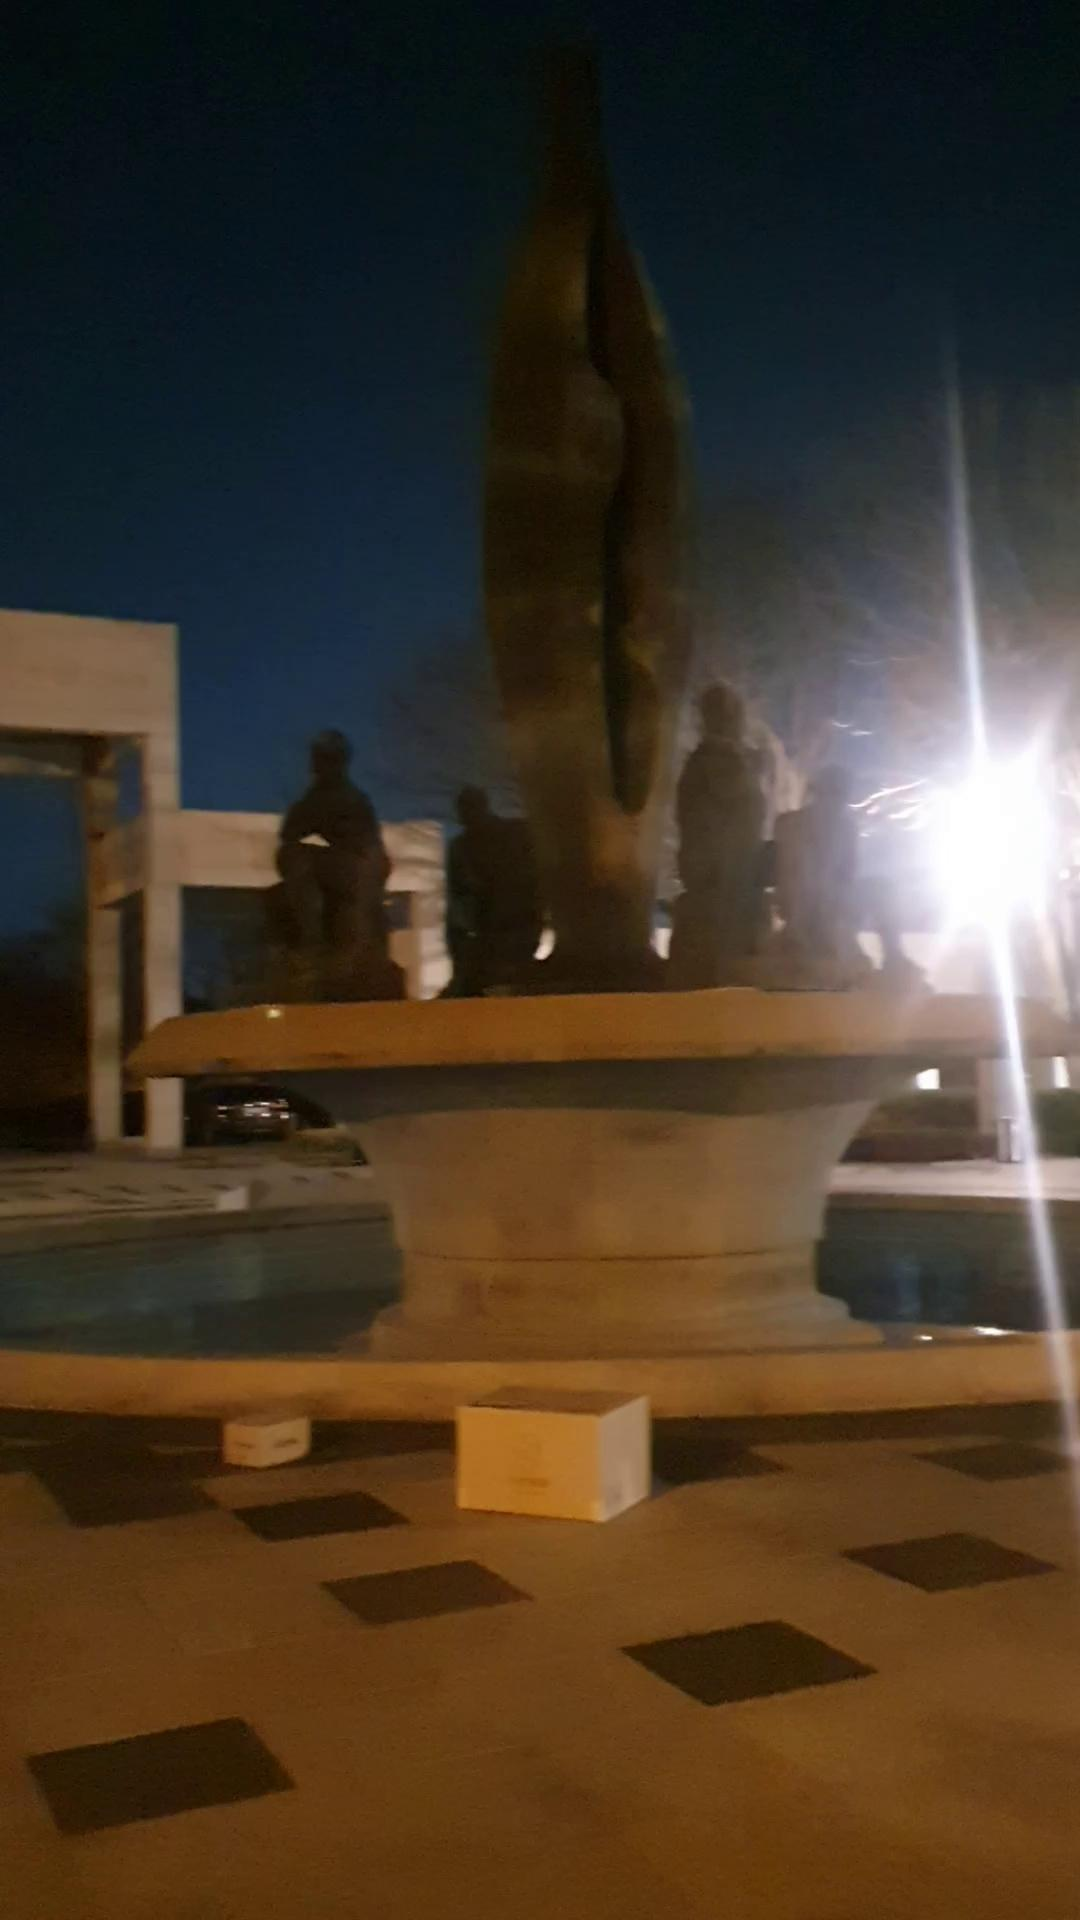Box: (451, 1370, 658, 1520), (203, 1393, 305, 1476)
